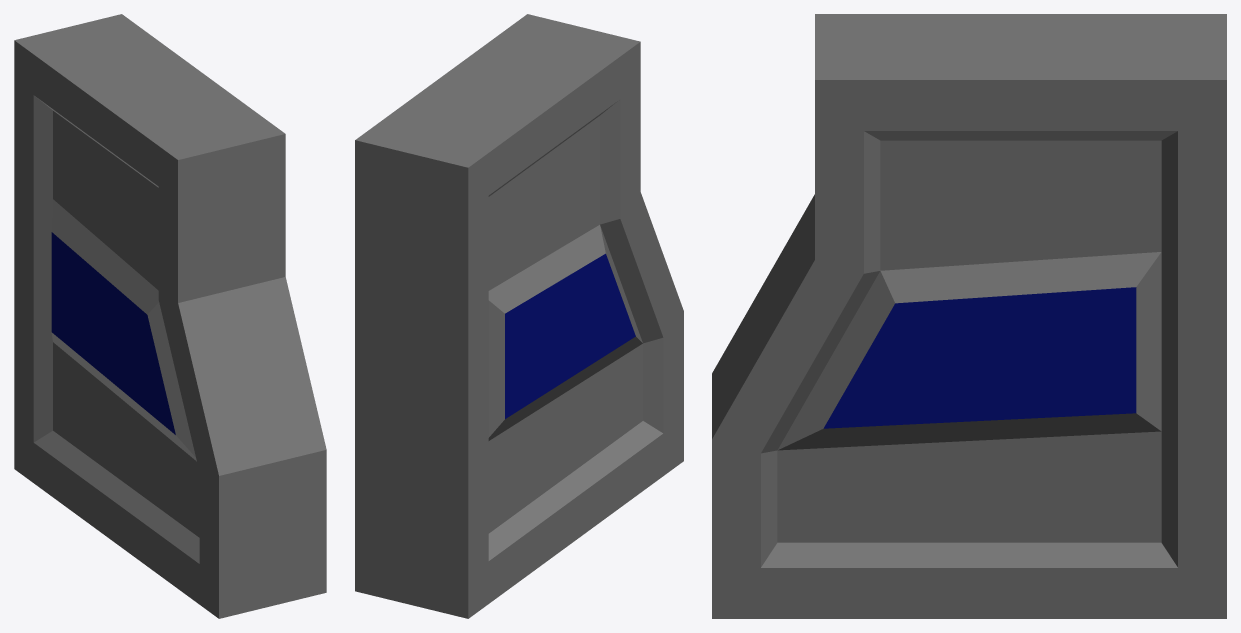
Rendered from Door1.fbx.
3 renders of one model, left to right at view 1: azimuth 30°, elevation 25°; view 2: azimuth 150°, elevation 25°; view 3: azimuth 270°, elevation 25°, orthographic. The views are drawn at different scales.
Visible parts, largest first — view 1: Cube; view 2: Cube; view 3: Cube.
Boxes of the visible parts, x1,y1,x2,y2 form: Cube: (14, 14, 326, 618); Cube: (355, 14, 683, 618); Cube: (712, 14, 1226, 618).
Bounding box in the file's own units: 460 × 1752 × 1517.
